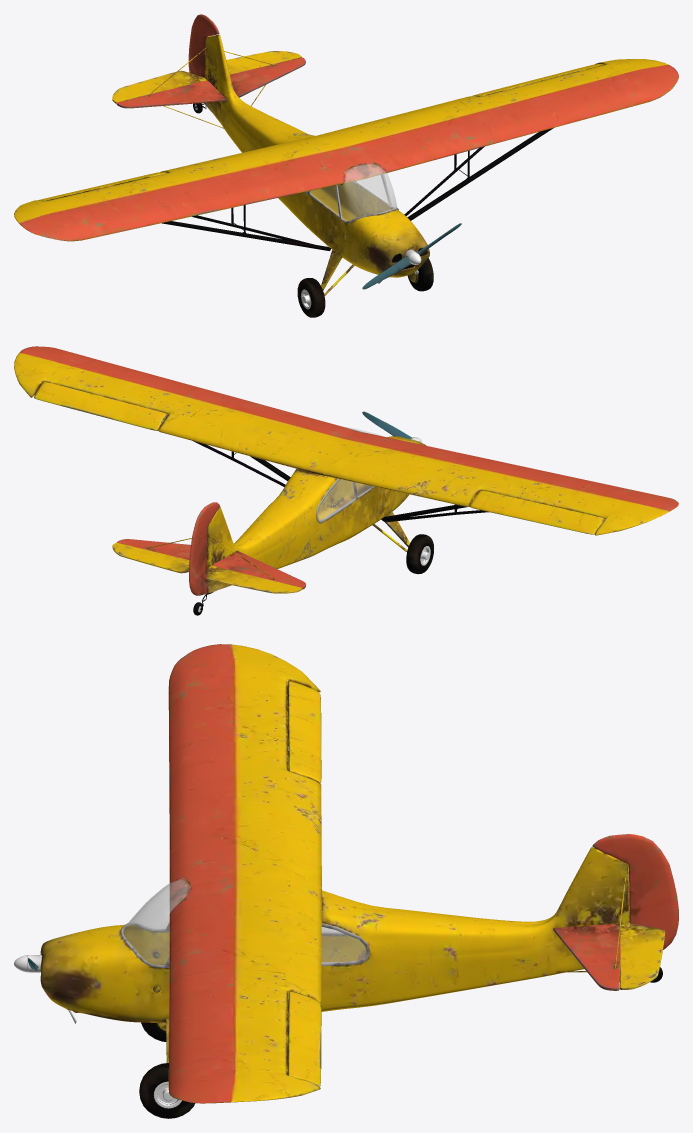
The picture shows the model from 3 angles, top to bottom: view 1: azimuth 30°, elevation 25°; view 2: azimuth 150°, elevation 25°; view 3: azimuth 270°, elevation 25°; orthographic projection. The views are drawn at different scales.
Parts seen in each view (by area): view 1: plane_frame, plane_window, plane_wheel2, plane_propeller, plane_wheel1; view 2: plane_frame, plane_window, plane_wheel2; view 3: plane_frame, plane_window, plane_wheel1.
Part boxes in pixels (left/top/right/bottom): plane_frame: left=14, top=14, right=678, bottom=295; plane_window: left=310, top=164, right=397, bottom=220; plane_wheel2: left=297, top=278, right=325, bottom=317; plane_propeller: left=362, top=223, right=461, bottom=289; plane_wheel1: left=407, top=258, right=433, bottom=291; plane_frame: left=14, top=346, right=678, bottom=615; plane_window: left=318, top=427, right=381, bottom=520; plane_wheel2: left=406, top=534, right=433, bottom=574; plane_frame: left=40, top=644, right=678, bottom=1103; plane_window: left=123, top=878, right=365, bottom=964; plane_wheel1: left=139, top=1063, right=194, bottom=1118.
Size of the model in its own units: 12.35 by 3.08 by 7.57.
2 materials, 2 textured.
